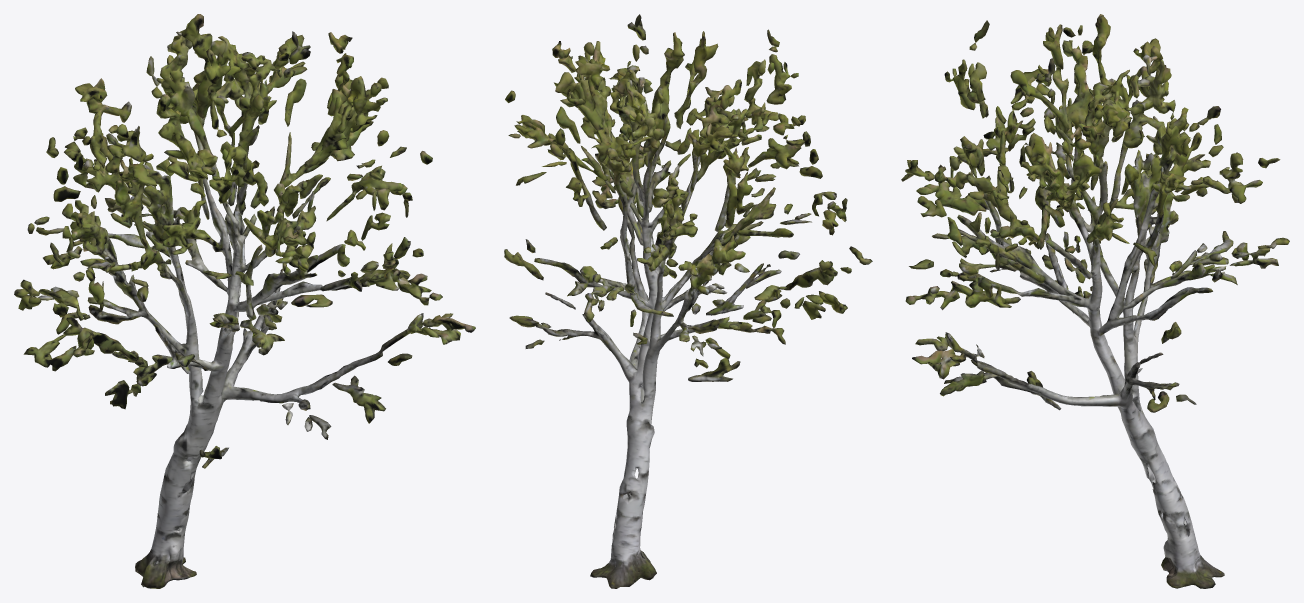
The model's file is AI_PaperBirch01.fbx.
3 views of the same model, side by side, from view 1: azimuth 30°, elevation 25°; view 2: azimuth 150°, elevation 25°; view 3: azimuth 270°, elevation 25° (orthographic). The views are drawn at different scales.
Visible parts, largest first — view 1: Mesh1.0; view 2: Mesh1.0; view 3: Mesh1.0.
Boxes of the visible parts, x1,y1,x2,y2 form: Mesh1.0: [14, 14, 475, 588]; Mesh1.0: [504, 14, 872, 588]; Mesh1.0: [901, 14, 1289, 588].
Bounding box in the file's own units: 131 × 198 × 125.
Materials: 1 (1 with a texture image).
